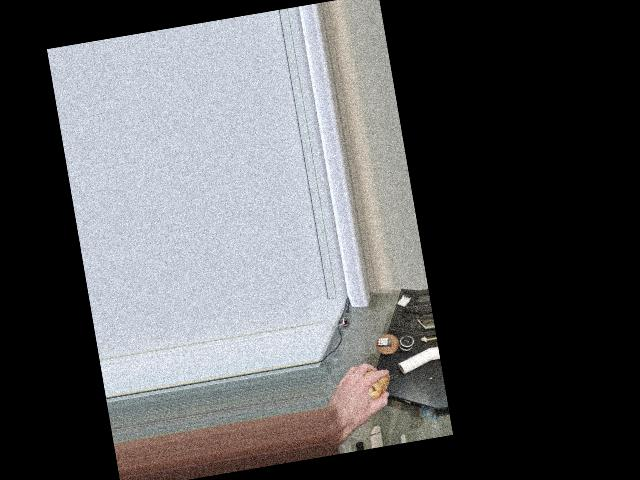onion: (346, 368, 395, 411)
